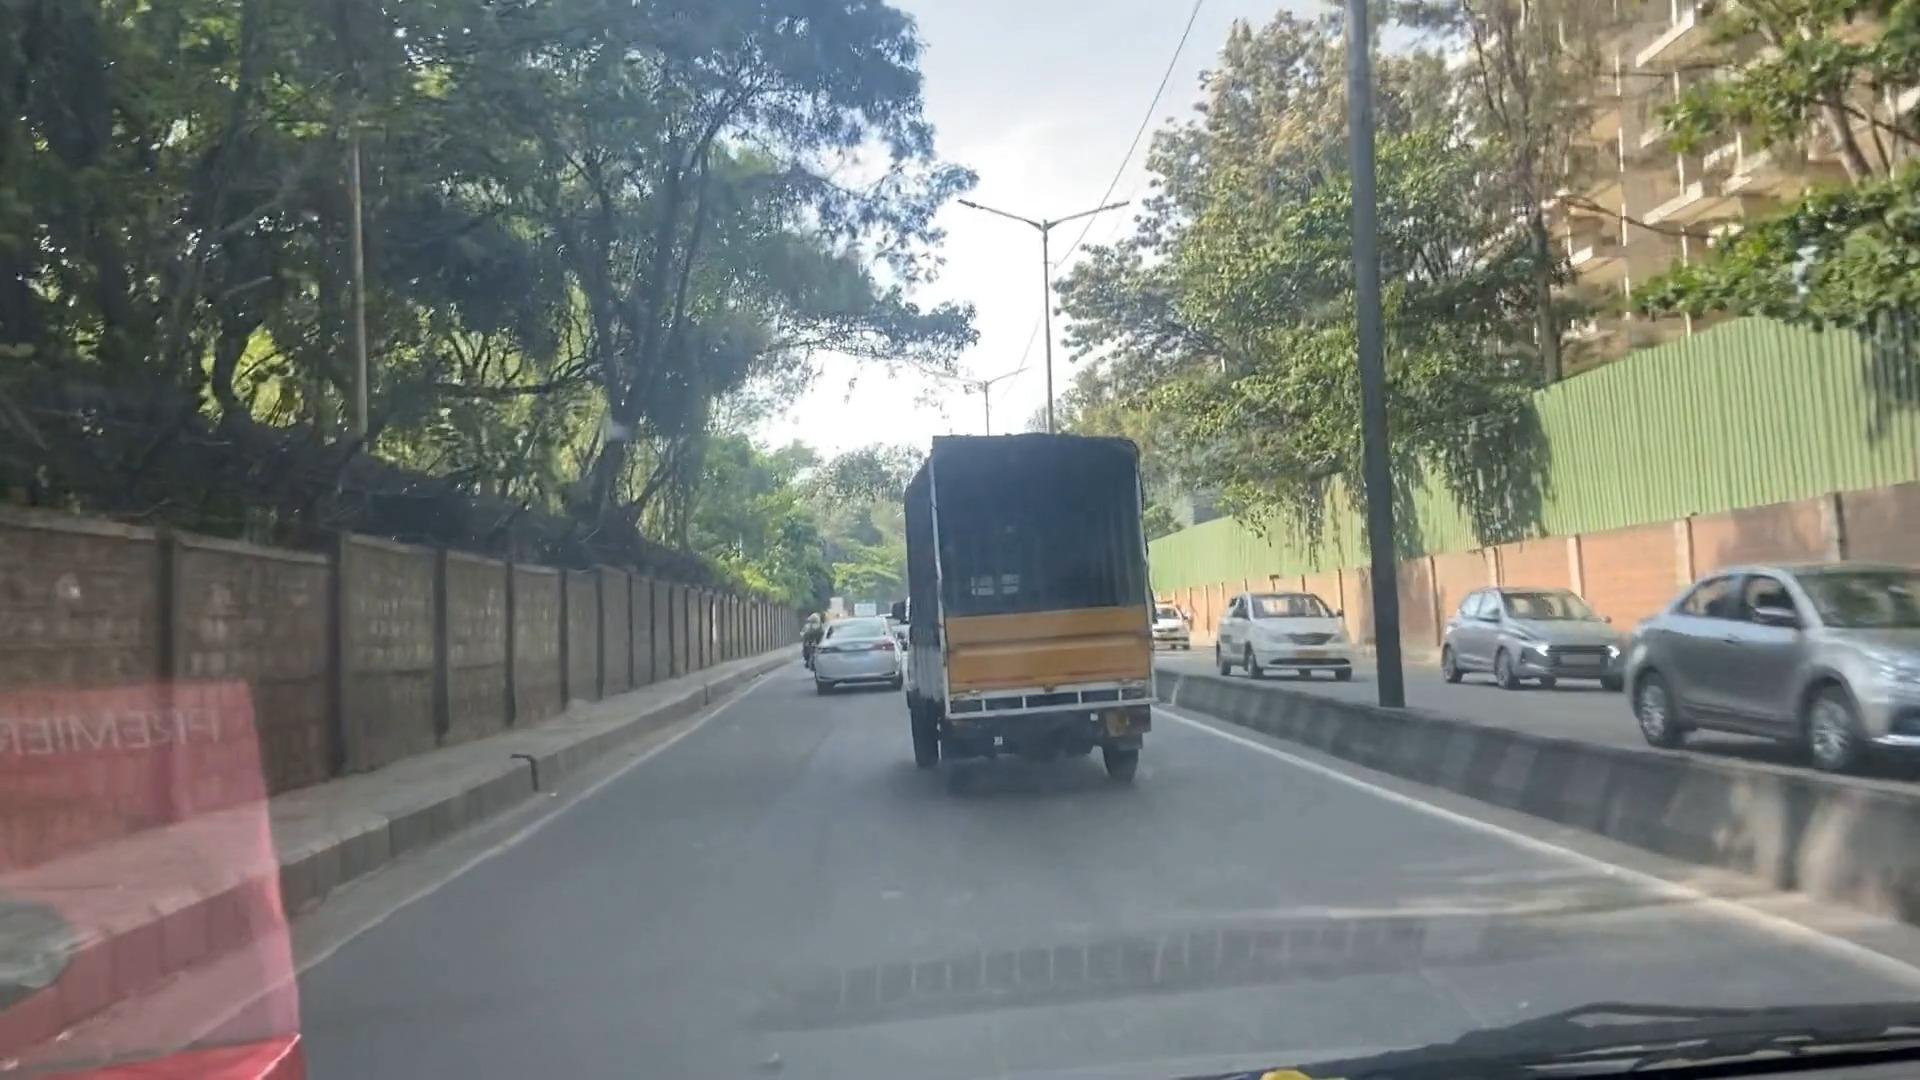HMV: (881, 415, 1166, 793)
